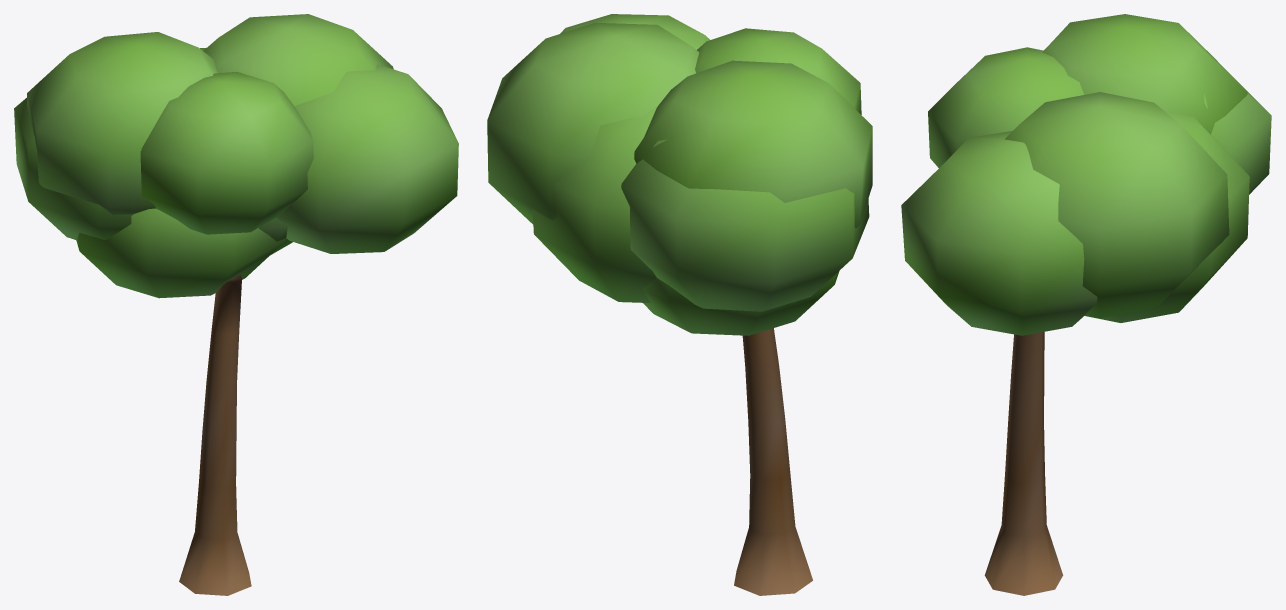
The model's file is world_tree_broad_b.fbx.
3 renders of one model, left to right at view 1: azimuth 30°, elevation 25°; view 2: azimuth 150°, elevation 25°; view 3: azimuth 270°, elevation 25°, orthographic. The views are drawn at different scales.
Visible parts, largest first — view 1: world_tree_broad_b; view 2: world_tree_broad_b; view 3: world_tree_broad_b.
Boxes of the visible parts, box(x1,y1,x2,y2) form: world_tree_broad_b: box(14, 14, 458, 595); world_tree_broad_b: box(487, 14, 872, 595); world_tree_broad_b: box(901, 14, 1271, 595).
Bounding box in the file's own units: 1027 × 1383 × 866.
